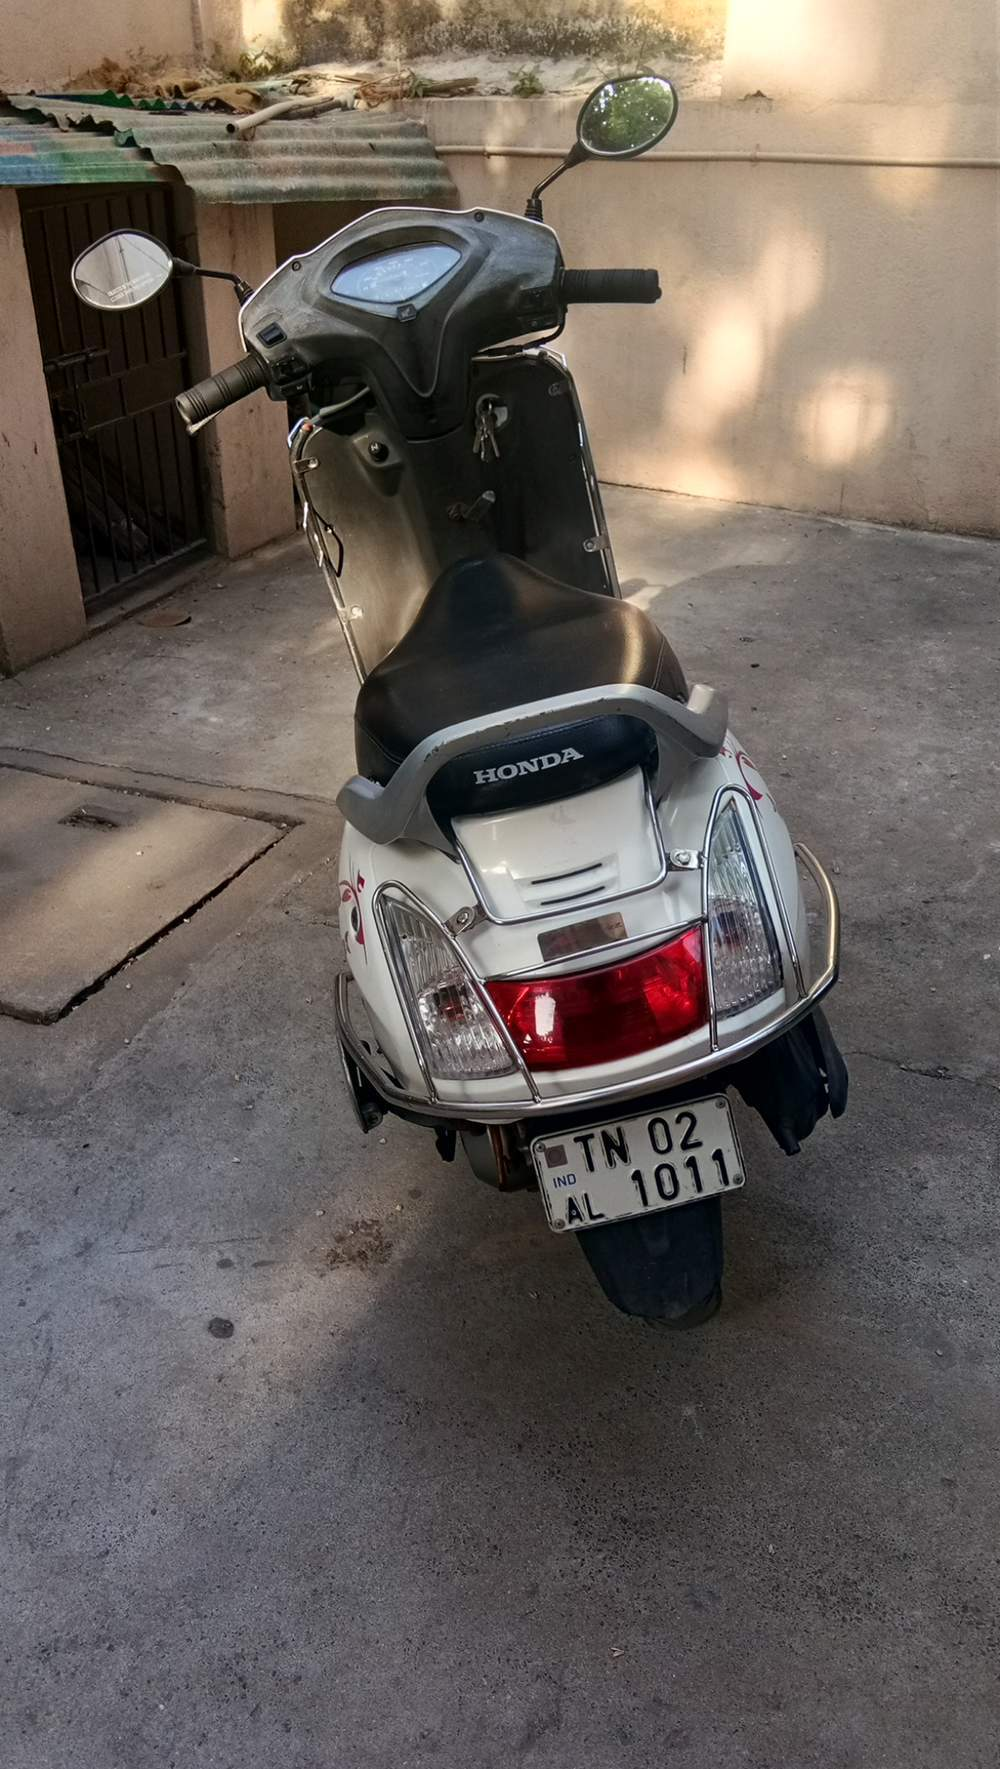number_plate: (520, 1093, 752, 1243)
